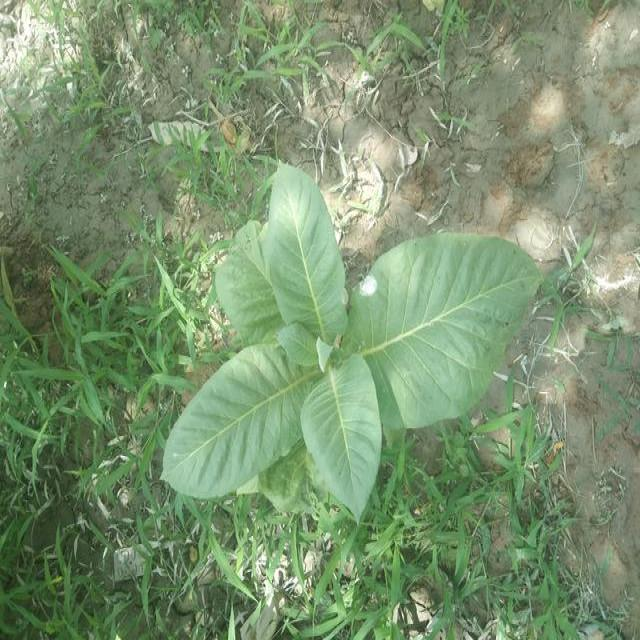crop: (152, 180, 538, 517)
